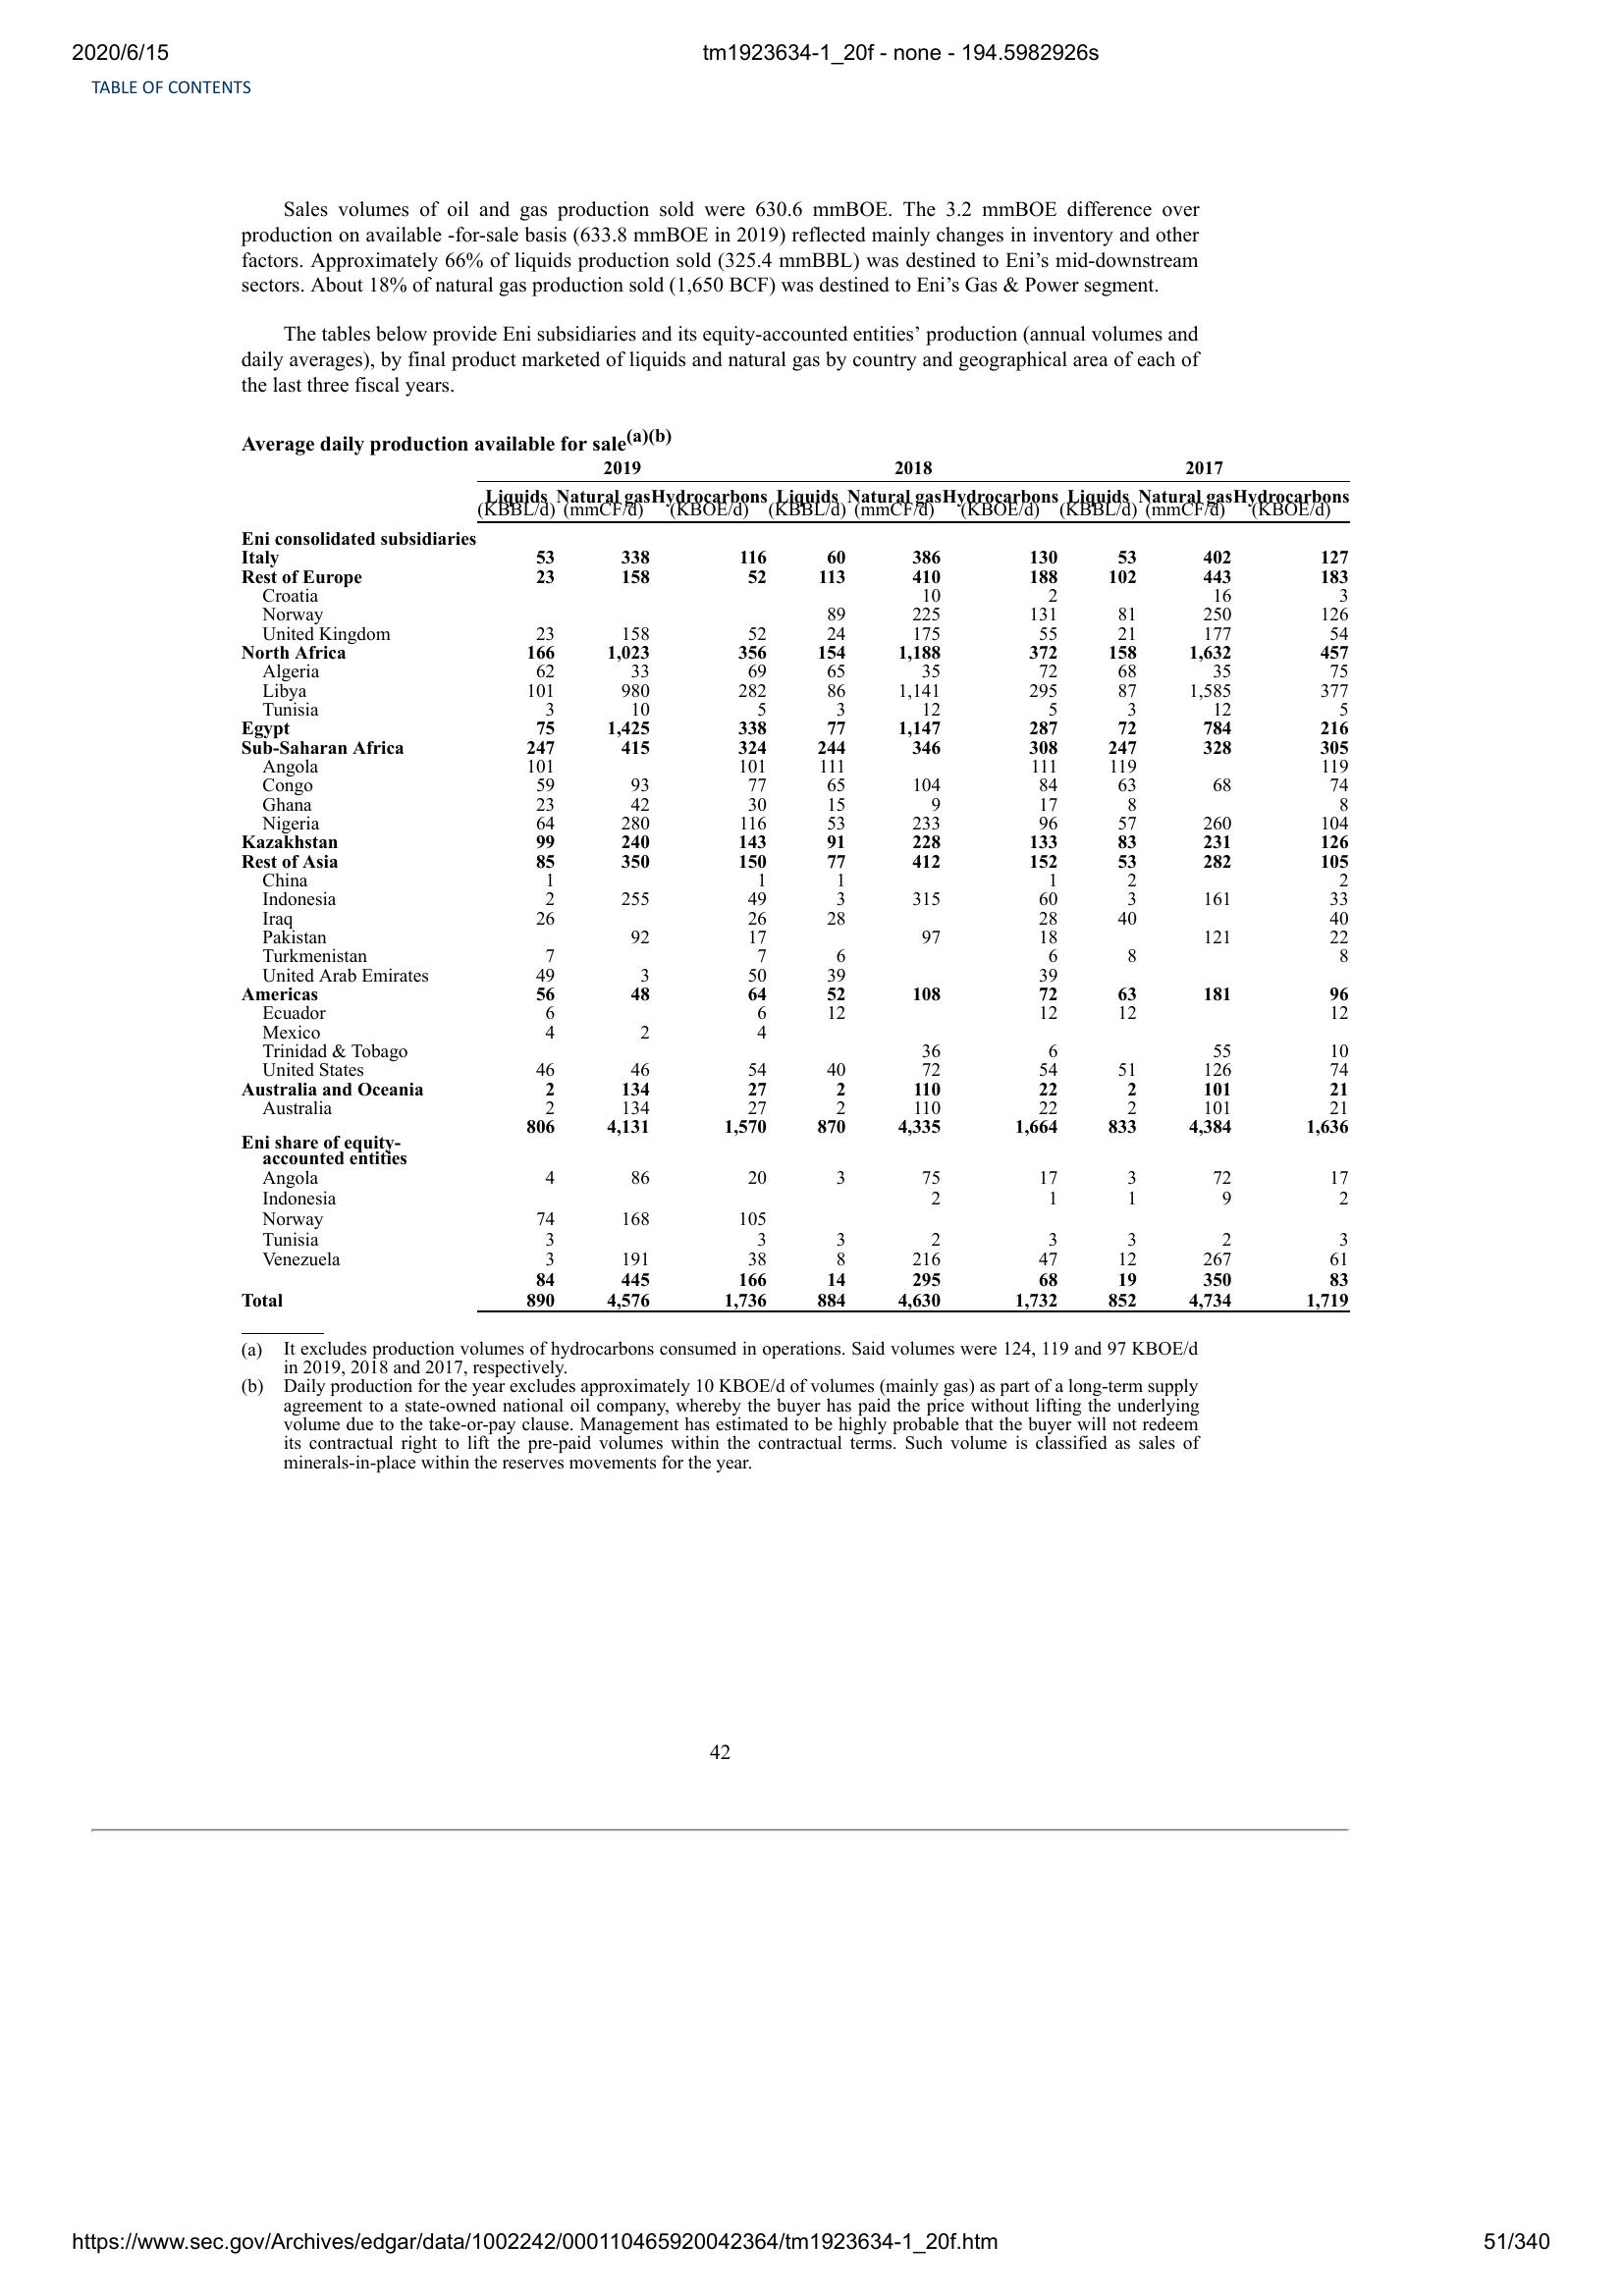table: (220, 456, 1360, 1322)
